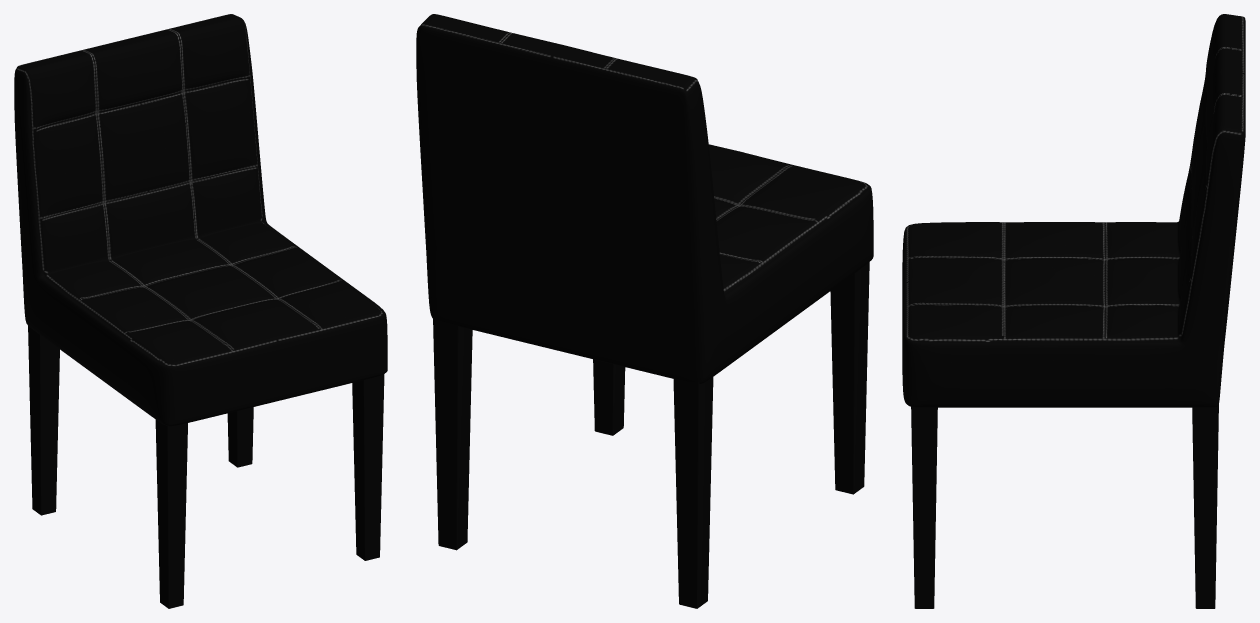
Rendered from chair_08_04.001.fbx.
3 views of the same model, side by side, from view 1: azimuth 30°, elevation 25°; view 2: azimuth 150°, elevation 25°; view 3: azimuth 270°, elevation 25° (orthographic). The views are drawn at different scales.
Parts seen in each view (by area): view 1: chair_08_04.001; view 2: chair_08_04.001; view 3: chair_08_04.001.
Part boxes in pixels (x1=…): chair_08_04.001: x1=14, y1=14, x2=387, y2=608; chair_08_04.001: x1=416, y1=14, x2=873, y2=608; chair_08_04.001: x1=902, y1=14, x2=1245, y2=608.
Size of the model in its own units: 45.76 by 82.78 by 53.51.
1 material, 1 textured.
